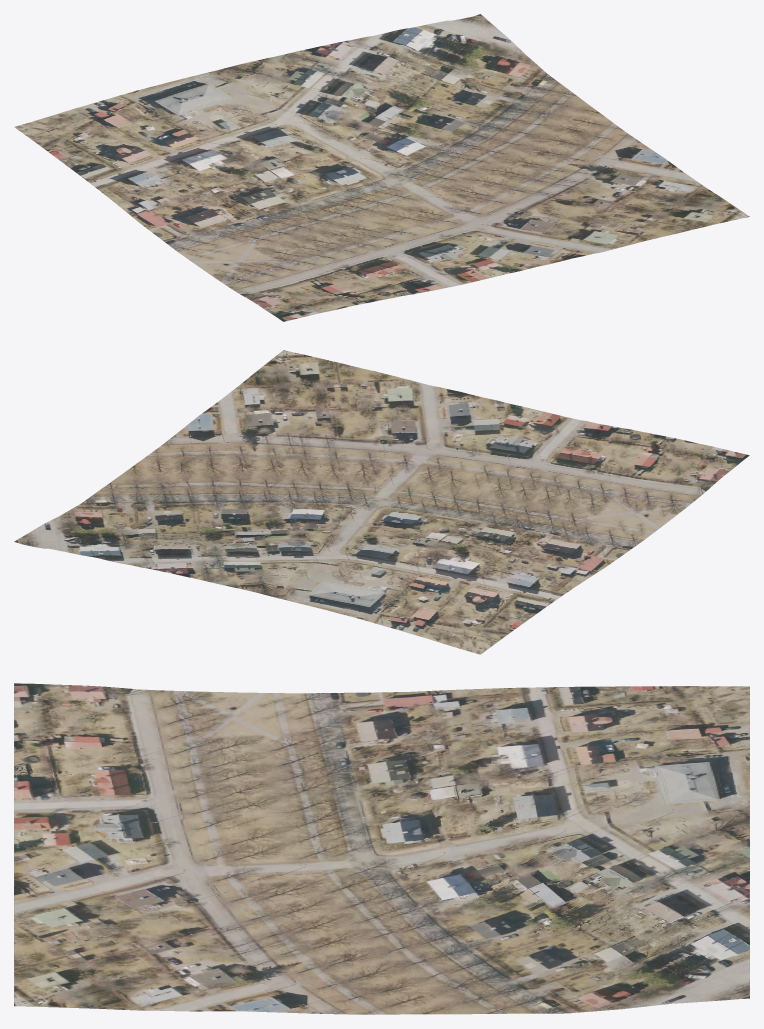
File: CM_Terrain_24488410_6819384.fbx
The picture shows the model from 3 angles, top to bottom: view 1: azimuth 30°, elevation 25°; view 2: azimuth 150°, elevation 25°; view 3: azimuth 270°, elevation 25°; orthographic projection. The views are drawn at different scales.
Visible parts, largest first — view 1: CM_Terrain_24488410_6819384_LOD0; view 2: CM_Terrain_24488410_6819384_LOD0; view 3: CM_Terrain_24488410_6819384_LOD0.
Part boxes in pixels (x1,y1,x2,y2): CM_Terrain_24488410_6819384_LOD0: (14, 14, 749, 321); CM_Terrain_24488410_6819384_LOD0: (14, 350, 749, 654); CM_Terrain_24488410_6819384_LOD0: (14, 683, 749, 1014).
Size of what is drawn, in the model's own units: 205 by 8.68 by 205.
